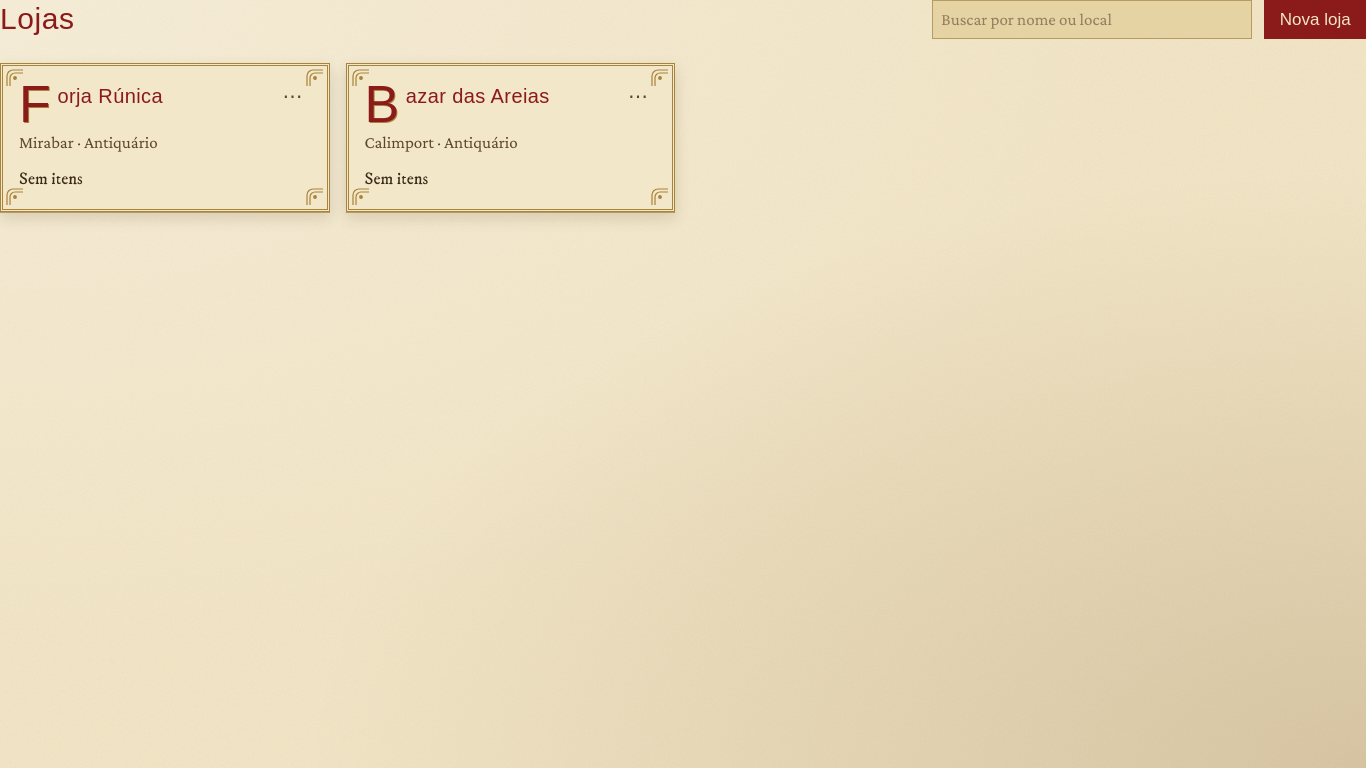
HomeView › exclui uma loja depois de confirmar
The width and height of the screenshot is (1366, 768).
What coordinates should you click on to do the following:
click the button named "Ações de Forja Rúnica"
I would click on:
 (292, 96)
Its box is [274,82,310,110].
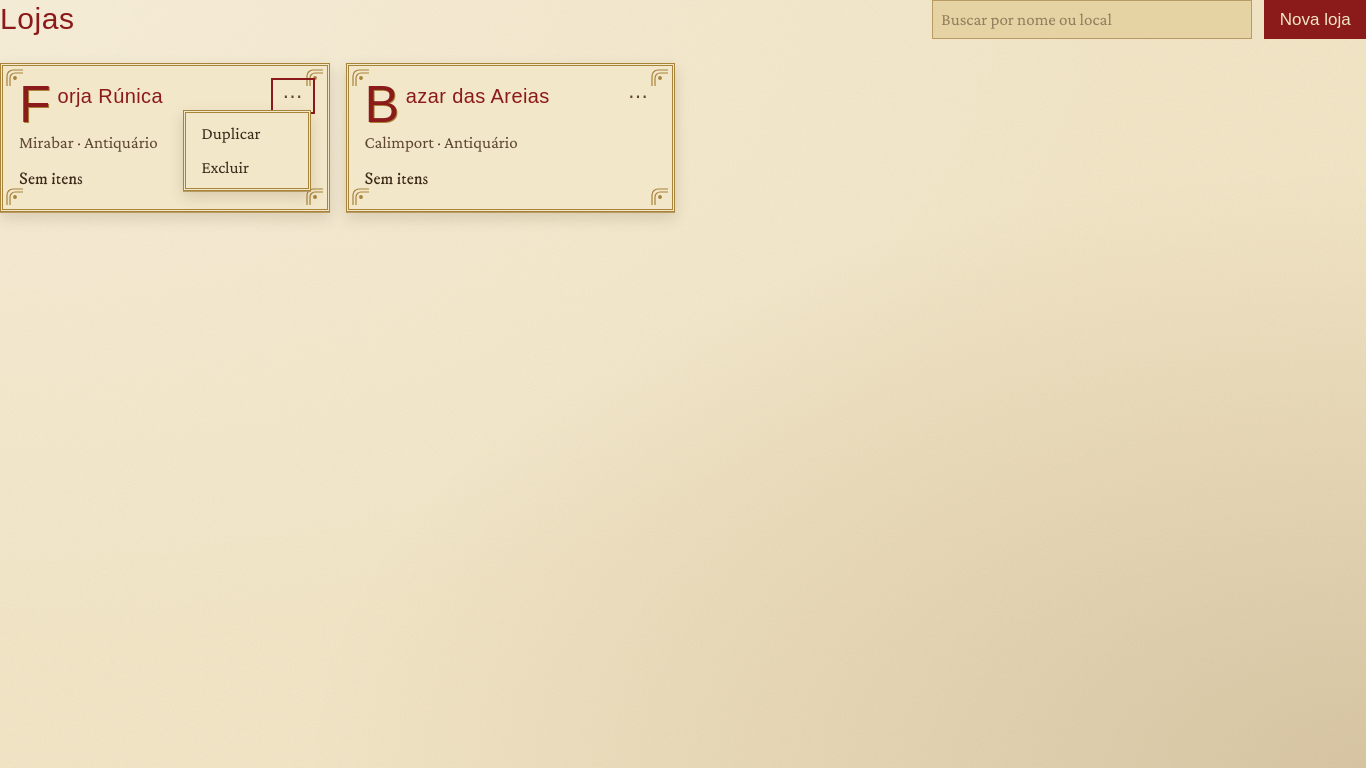
What coordinates should you click on to do the following:
click the menu item "Excluir"
I would click on:
 (246, 167)
Its box is [190,151,304,184].
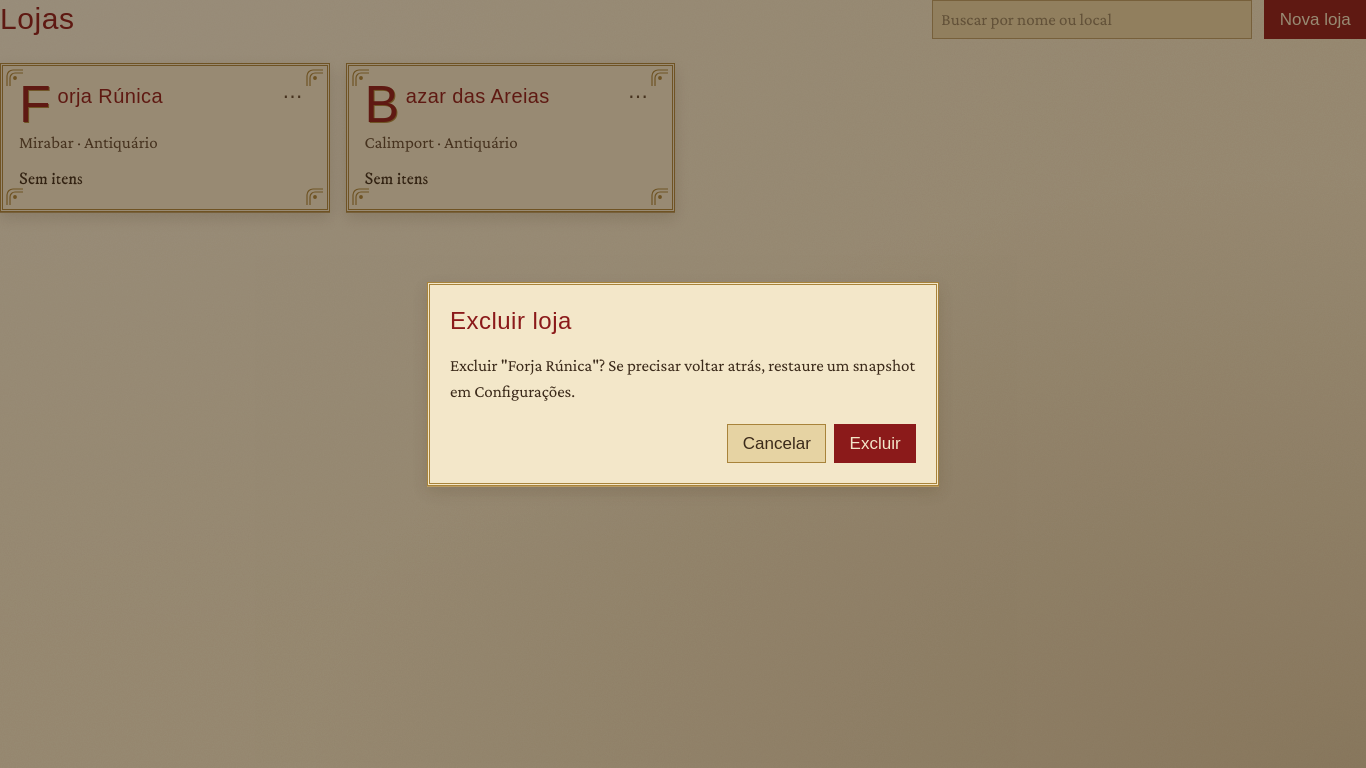
What coordinates should you click on to do the following:
click the button "Excluir"
I would click on:
 (875, 444)
Its box is [834,424,916,463].
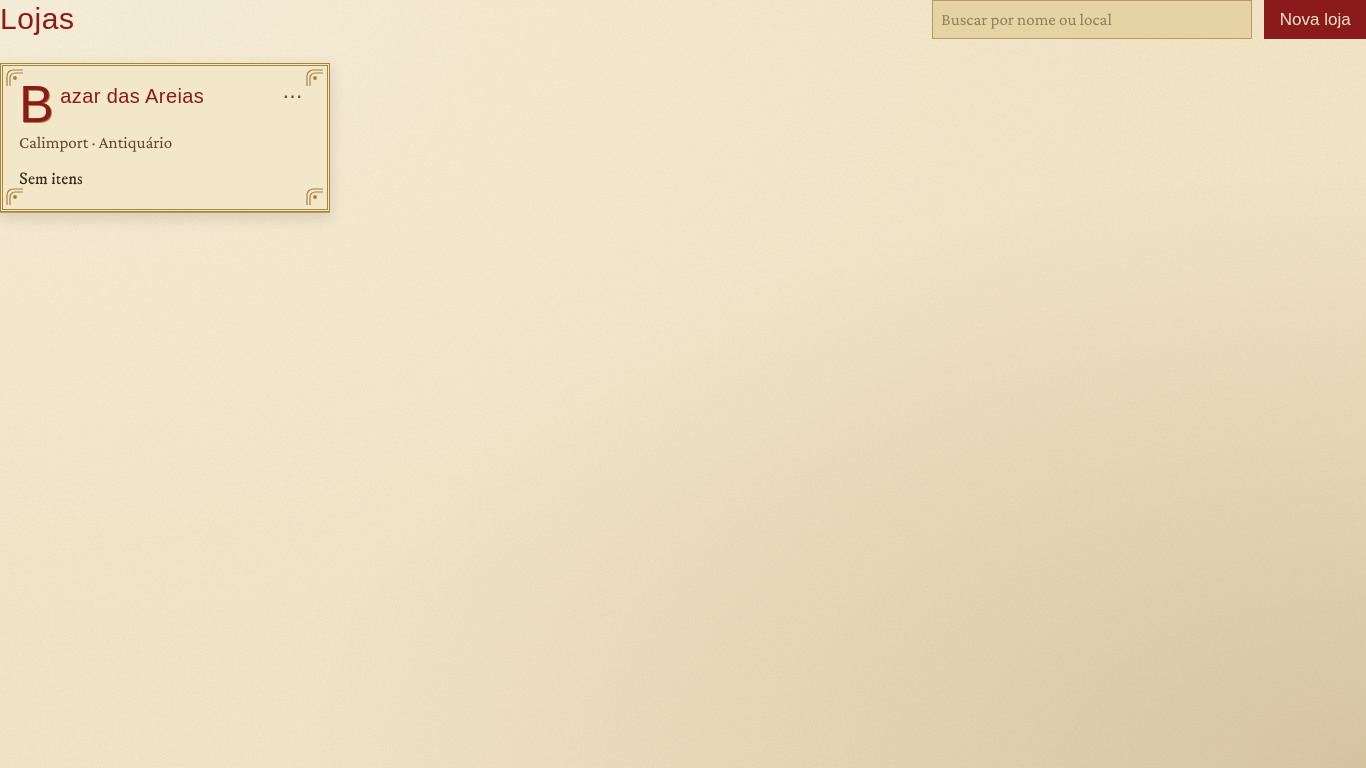
Check: the link "Forja Rúnica" is gone
